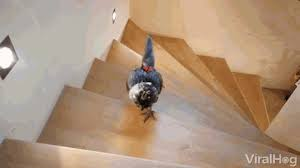Walking: (119, 23, 188, 134)
